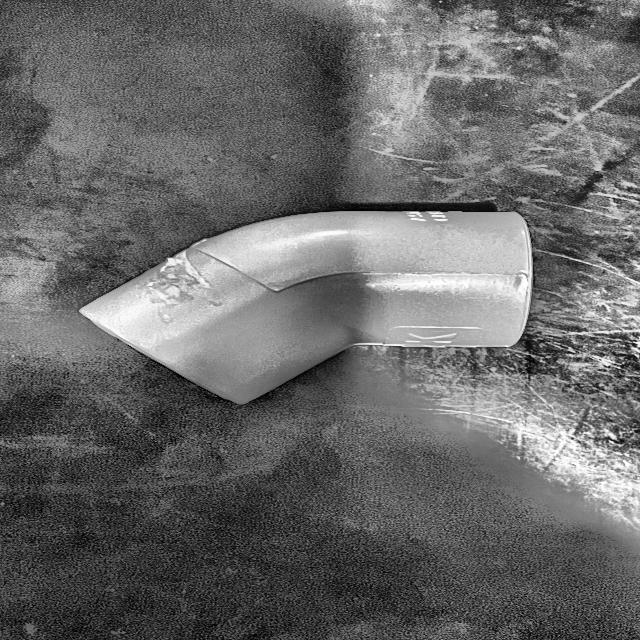ELBOW45: (79, 207, 534, 407)
